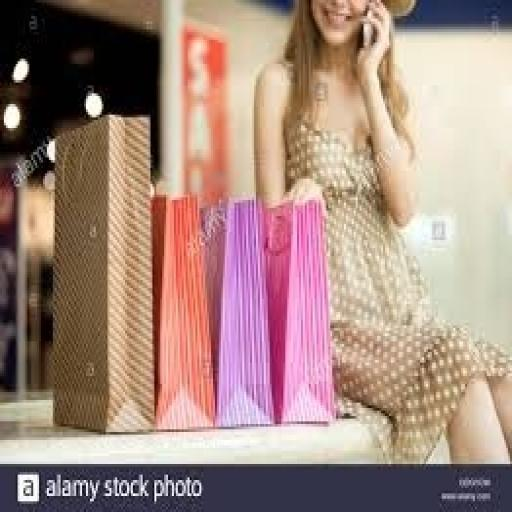calling: (250, 0, 510, 464)
